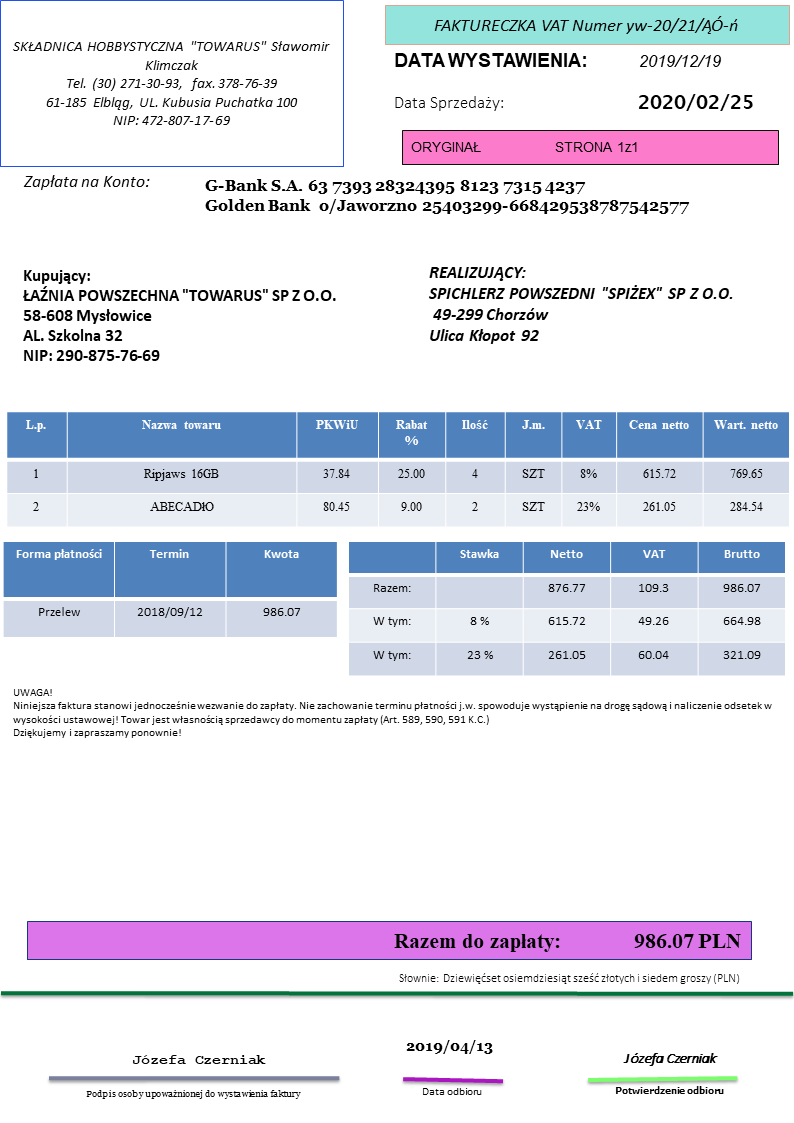Table: (5, 408, 789, 530), (348, 540, 788, 678), (2, 540, 337, 640)
TextBox: (10, 683, 775, 742), (20, 264, 338, 364), (7, 35, 334, 130), (426, 261, 736, 347), (202, 173, 692, 220), (391, 927, 742, 954), (429, 11, 743, 38), (396, 968, 744, 988), (407, 135, 643, 157), (391, 47, 590, 72), (83, 1085, 303, 1101), (635, 88, 756, 113), (392, 90, 506, 114), (22, 170, 150, 190), (129, 1051, 267, 1067), (635, 48, 726, 72), (619, 1047, 720, 1068), (402, 1036, 494, 1059), (612, 1082, 728, 1099), (418, 1083, 485, 1098)
